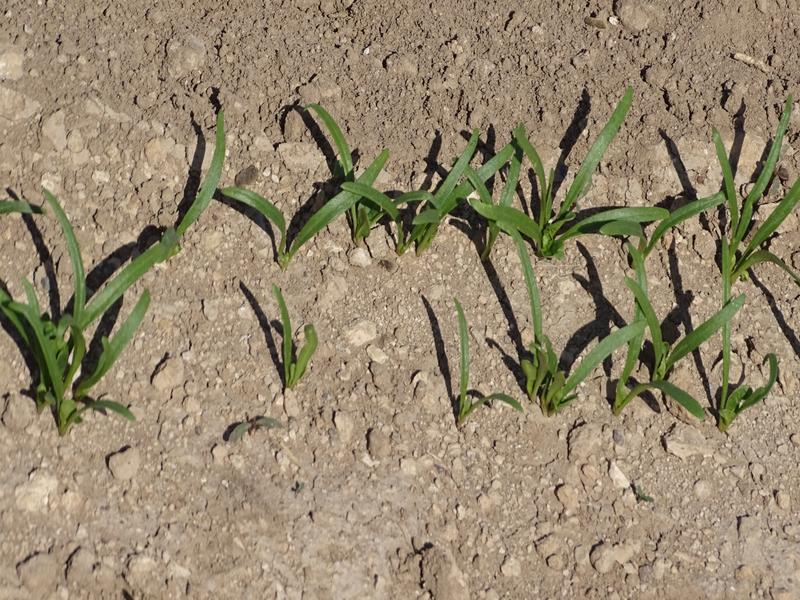Espinaca: (253, 113, 797, 261), (1, 109, 229, 423), (429, 268, 764, 422), (263, 293, 325, 386)
